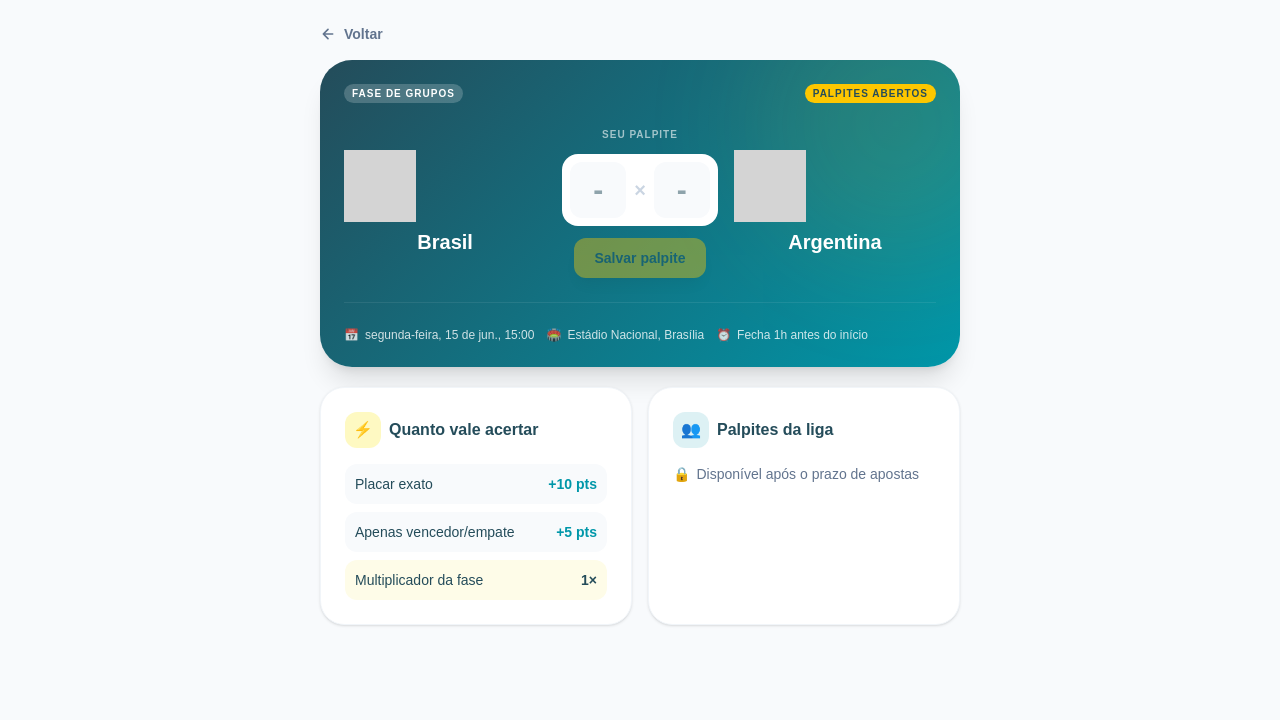
Test: BetDetailPage › clicking outside modal (overlay) closes modal without navigation
The image size is (1280, 720).
Type "1" into the number field with test id "input-home" at coordinates (598, 190), box [570,162,626,218]
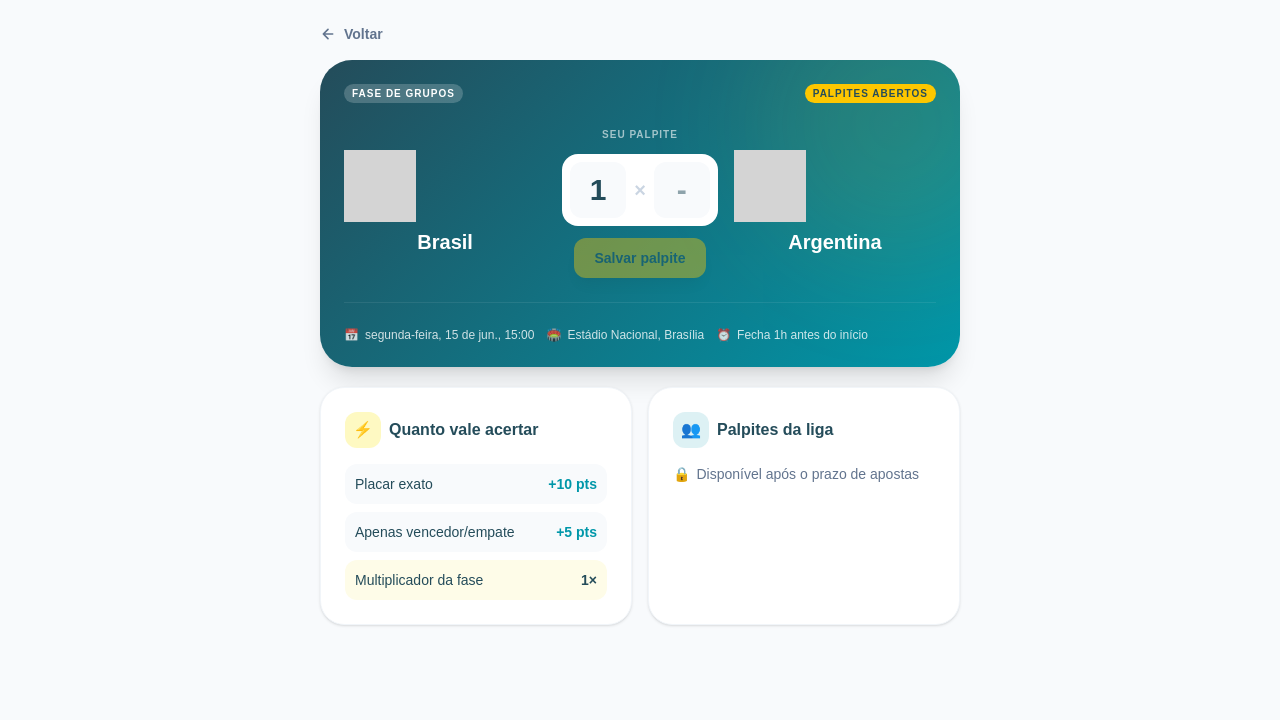
Type "0" into the number field with test id "input-away" at coordinates (682, 190), box [654,162,710,218]
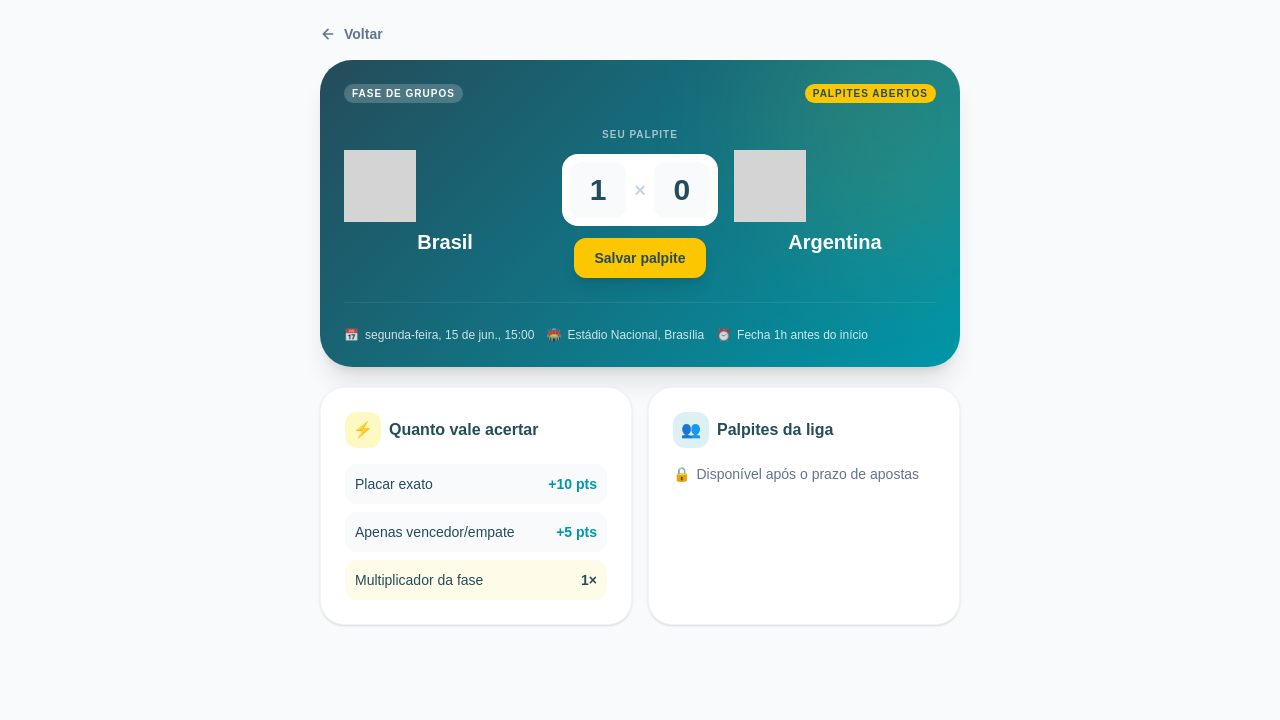
Click the button with test id "back-btn" at coordinates (351, 34), box [320,24,383,44]
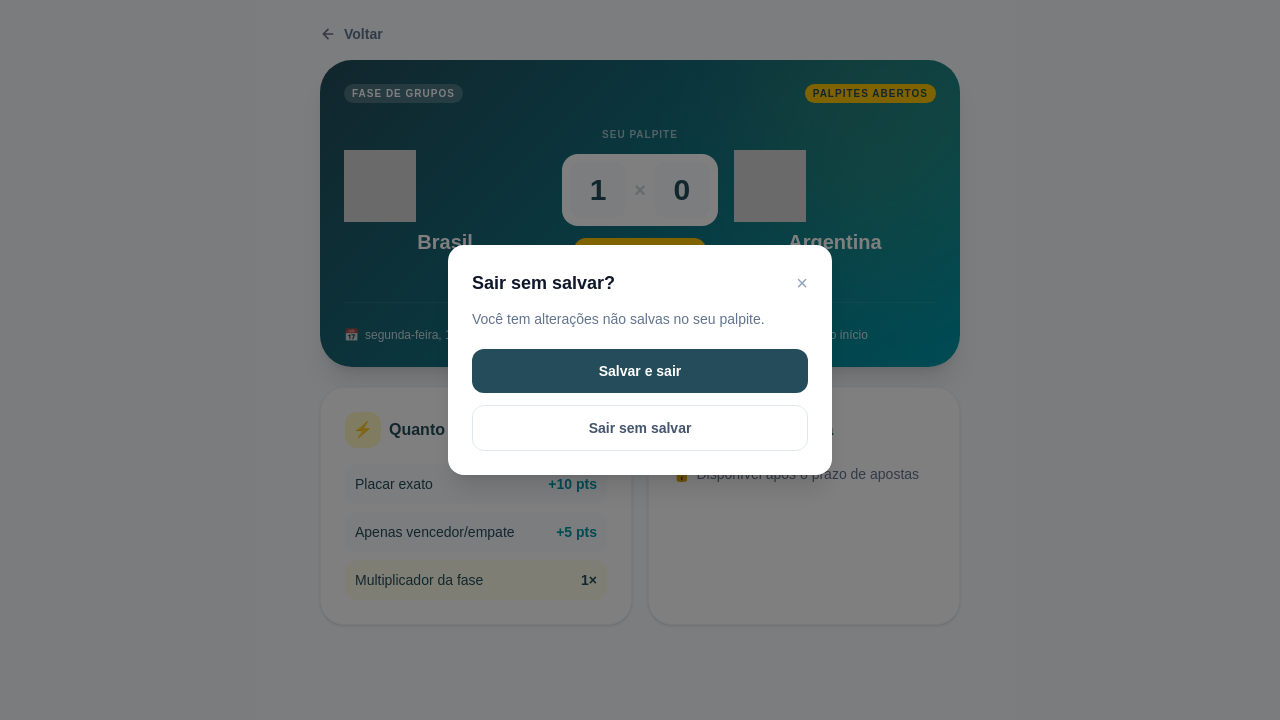
Now the element with test id "unsaved-modal" is shown, box [448,245,832,475]
Click the element with test id "unsaved-modal-overlay" at coordinates (77, 360), box [0,0,1279,719]
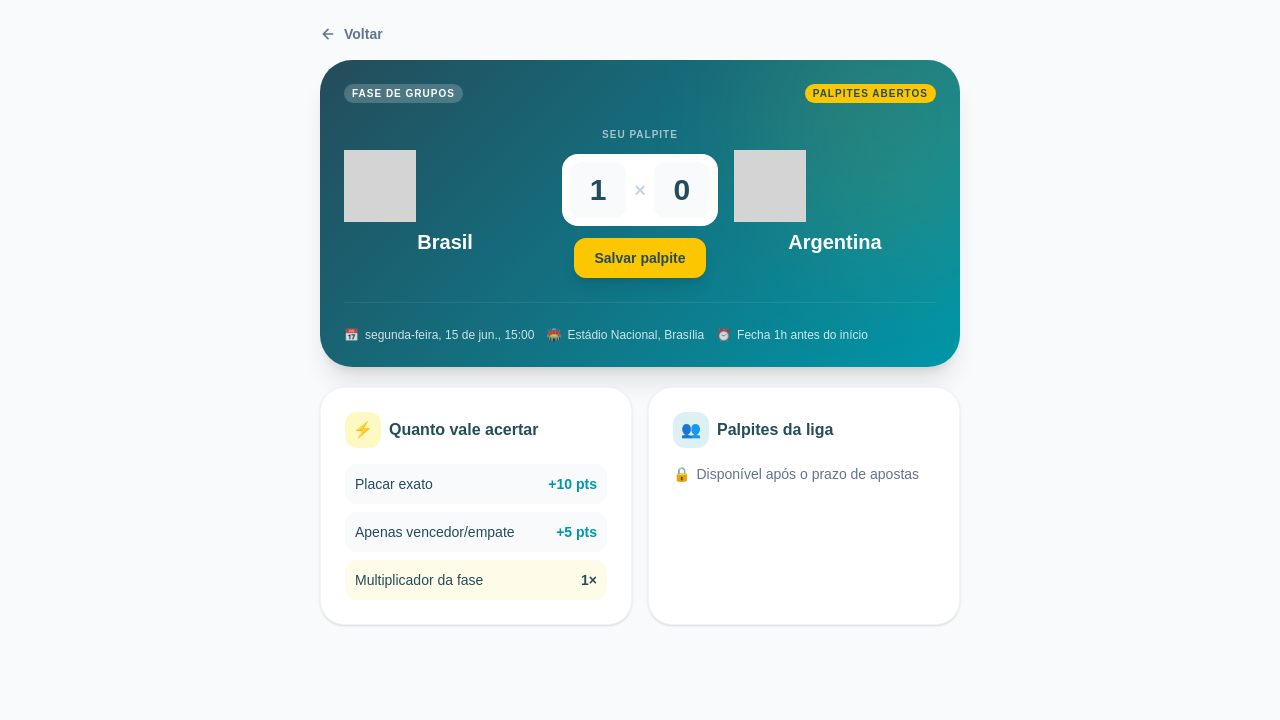
Now the element with test id "unsaved-modal" is gone
